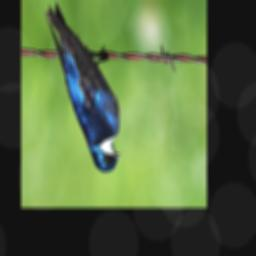Swallow: (45, 3, 122, 173)
